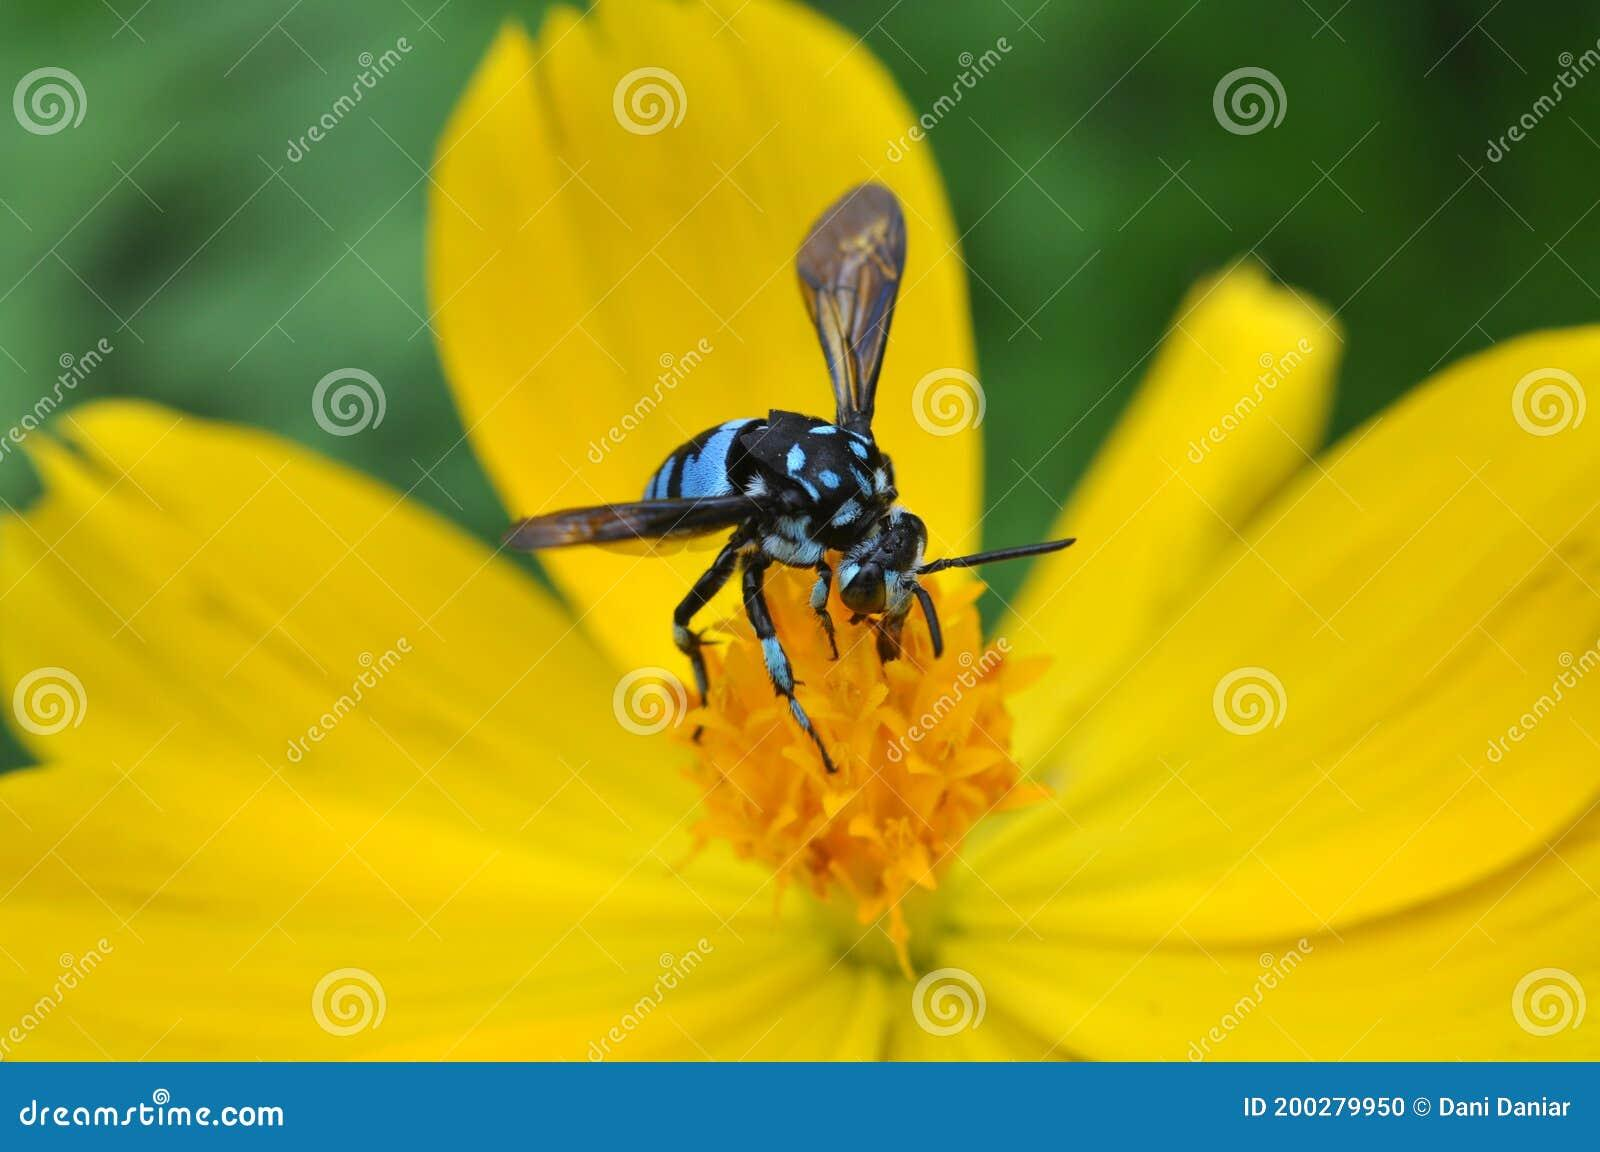Thyreus: (477, 179, 1091, 780)
